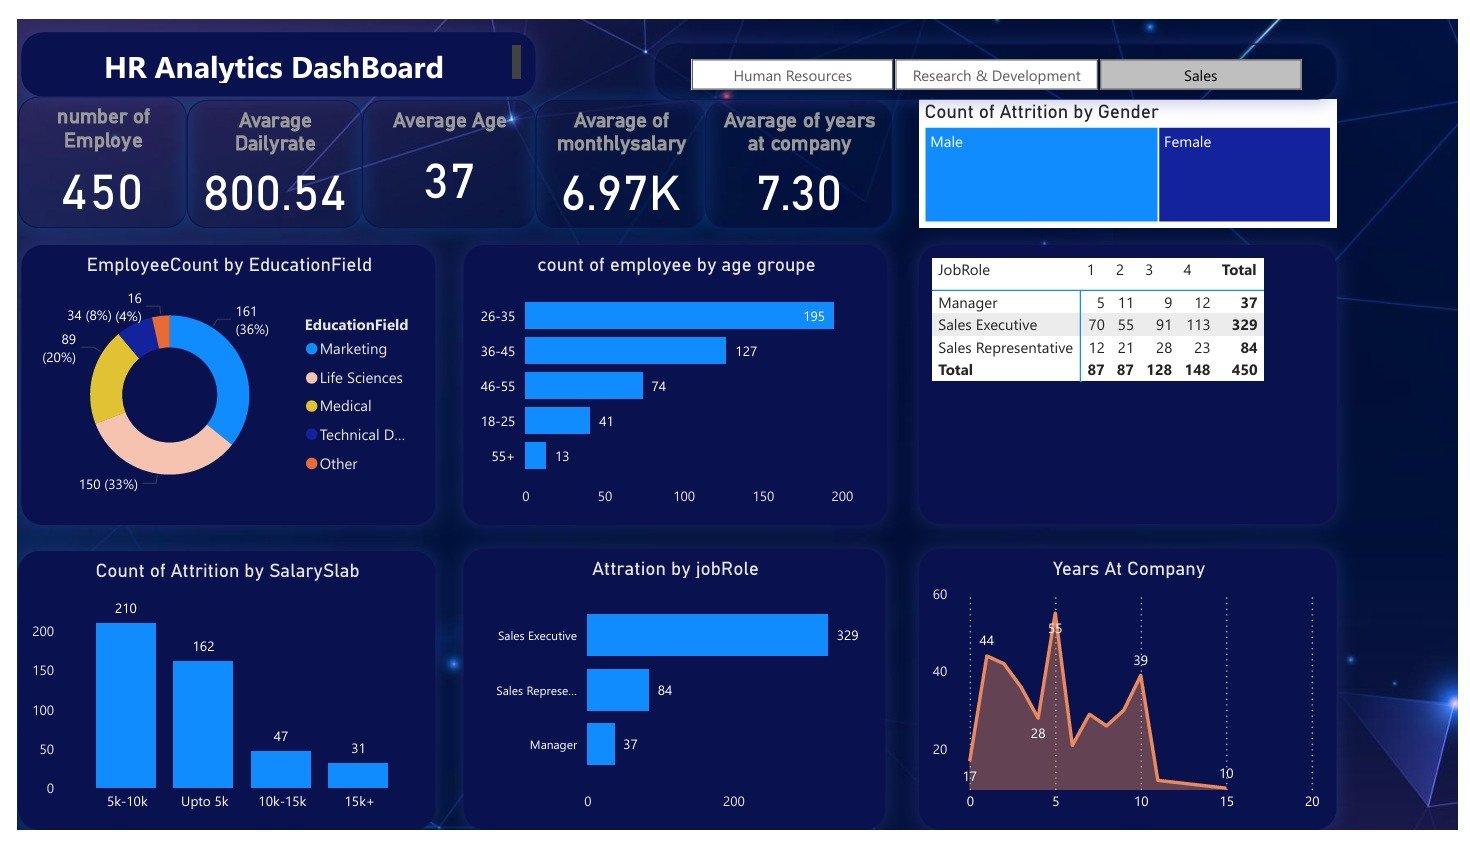

The dashboard page shown, as its layout file describes it:
{"tool":"powerbi","page":{"name":"Page 1","canvas":[1280,720],"ordinal":0},"visuals":[{"type":"card","title":"number of Employe","fields":{"Values":["CountNonNull(HR_Analytics.EmpID)"]},"box":[0,68.4,149.7,116.9],"z":0},{"type":"card","title":"Avarage Dailyrate","fields":{"Values":["Avg(HR_Analytics.DailyRate)"]},"box":[149.7,71.3,156.8,114],"z":1000},{"type":"card","title":"Average Age","fields":{"Values":["Avg(HR_Analytics.Age)"]},"box":[306.5,71.3,153.9,114],"z":2000},{"type":"card","title":"Avarage of monthlysalary","fields":{"Values":["Avg(HR_Analytics.MonthlyIncome)"]},"box":[460.4,71.3,151.1,114],"z":3000},{"type":"card","title":"Avarage of years at company","fields":{"Values":["Avg(HR_Analytics.YearsAtCompany)"]},"box":[611.5,71.3,165.3,114],"z":4000},{"type":"donutChart","title":"EmployeeCount by EducationField","fields":{"Category":["HR_Analytics.EducationField"],"Y":["CountNonNull(HR_Analytics.EmployeeCount)"]},"box":[2.9,199.6,367.8,249.4],"z":5000},{"type":"clusteredBarChart","title":"count of employee by age groupe","fields":{"Category":["HR_Analytics.AgeGroup"],"Y":["CountNonNull(HR_Analytics.EmpID)"]},"box":[396.3,199.6,376.3,249.4],"z":6000},{"type":"pivotTable","fields":{"Rows":["HR_Analytics.JobRole"],"Columns":["HR_Analytics.JobSatisfaction"],"Values":["CountNonNull(HR_Analytics.Attrition)"]},"box":[801.1,199.6,370.6,248],"z":7000},{"type":"columnChart","fields":{"Category":["HR_Analytics.SalarySlab"],"Y":["CountNonNull(HR_Analytics.Attrition)"]},"box":[0,471.8,370.6,248],"z":8000},{"type":"clusteredBarChart","title":"Attration by jobRole","fields":{"Category":["HR_Analytics.JobRole"],"Y":["CountNonNull(HR_Analytics.Attrition)"]},"box":[396.3,470.4,374.9,249.4],"z":9000},{"type":"areaChart","title":"Years At Company","fields":{"Category":["HR_Analytics.YearsAtCompany"],"Y":["CountNonNull(HR_Analytics.Attrition)"]},"box":[801.1,470.4,370.6,249.4],"z":10000},{"type":"treemap","fields":{"Group":["HR_Analytics.Gender"],"Values":["CountNonNull(HR_Analytics.Attrition)"]},"box":[801.1,71.3,370.6,114],"z":11000},{"type":"slicer","fields":{"Values":["HR_Analytics.Department"]},"box":[565.9,21.4,605.8,49.9],"z":12000},{"type":"textbox","box":[2.9,11.4,457.6,57],"z":13000}]}

Visuals, with their boxes in screenshot pixels (x1, y1, x2, y2), scaled from the page's 1280x720 canvas onto the 1470x845 screenshot:
"number of Employe" card: l=0, t=80, r=172, b=217
"Avarage Dailyrate" card: l=172, t=84, r=352, b=217
"Average Age" card: l=352, t=84, r=529, b=217
"Avarage of monthlysalary" card: l=529, t=84, r=702, b=217
"Avarage of years at company" card: l=702, t=84, r=892, b=217
"EmployeeCount by EducationField" donutChart: l=3, t=234, r=426, b=527
"count of employee by age groupe" clusteredBarChart: l=455, t=234, r=887, b=527
pivotTable - HR_Analytics.JobRole x HR_Analytics.JobSatisfaction: l=920, t=234, r=1346, b=525
columnChart - HR_Analytics.SalarySlab x CountNonNull(HR_Analytics.Attrition): l=0, t=554, r=426, b=844
"Attration by jobRole" clusteredBarChart: l=455, t=552, r=886, b=844
"Years At Company" areaChart: l=920, t=552, r=1346, b=844
treemap - HR_Analytics.Gender x CountNonNull(HR_Analytics.Attrition): l=920, t=84, r=1346, b=217
slicer - HR_Analytics.Department: l=650, t=25, r=1346, b=84
textbox: l=3, t=13, r=529, b=80
